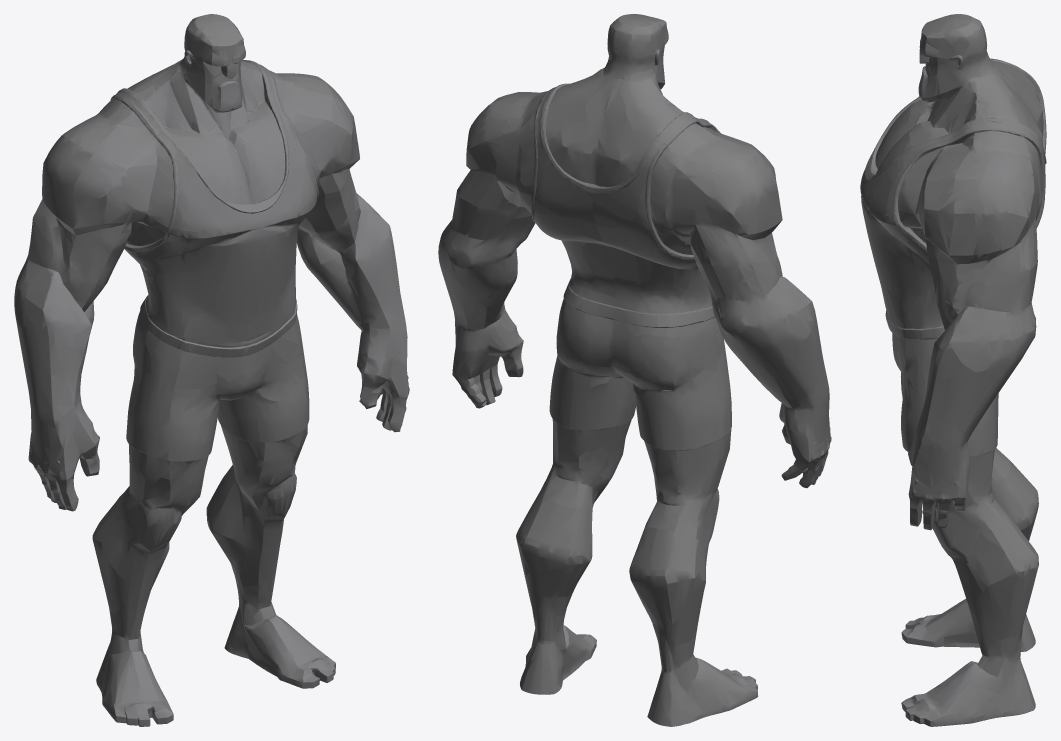
The model's file is bruiser_meshy.glb.
3 renders of one model, left to right at view 1: azimuth 30°, elevation 25°; view 2: azimuth 150°, elevation 25°; view 3: azimuth 270°, elevation 25°, orthographic.
Size of the model in its own units: 1.1 by 1.9 by 0.4902.
1 material, 1 textured.
